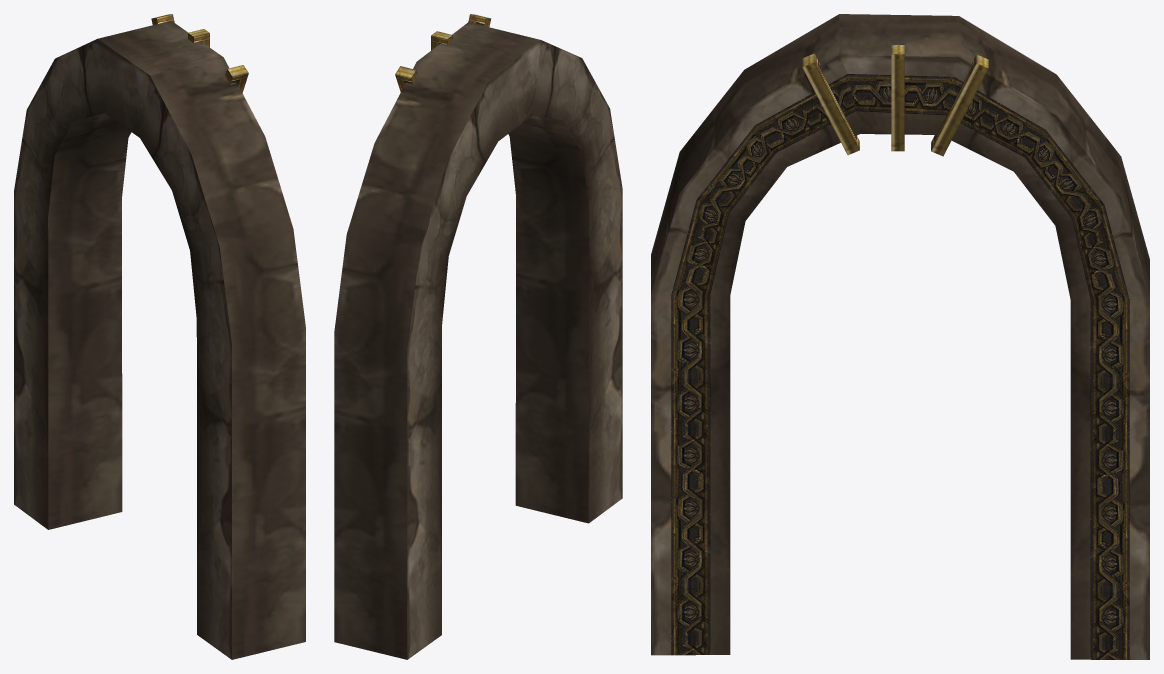
The model's file is arch_wall_gate.FBX.
3 views of the same model, side by side, from view 1: azimuth 30°, elevation 25°; view 2: azimuth 150°, elevation 25°; view 3: azimuth 270°, elevation 25° (orthographic). The views are drawn at different scales.
Visible parts, largest first — view 1: arch_wall_gate; view 2: arch_wall_gate; view 3: arch_wall_gate.
Part boxes in pixels (left/top/right/bottom): arch_wall_gate: left=14, top=14, right=305, bottom=659; arch_wall_gate: left=334, top=14, right=622, bottom=659; arch_wall_gate: left=651, top=14, right=1149, bottom=659.
Bounding box in the file's own units: 0.7029 × 4.29 × 3.17.
